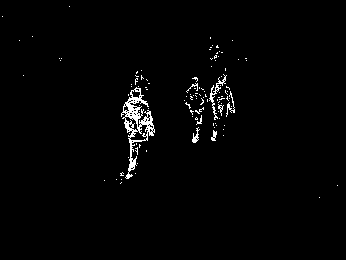person: (123, 88, 154, 180), (210, 73, 235, 144), (184, 74, 209, 144)
